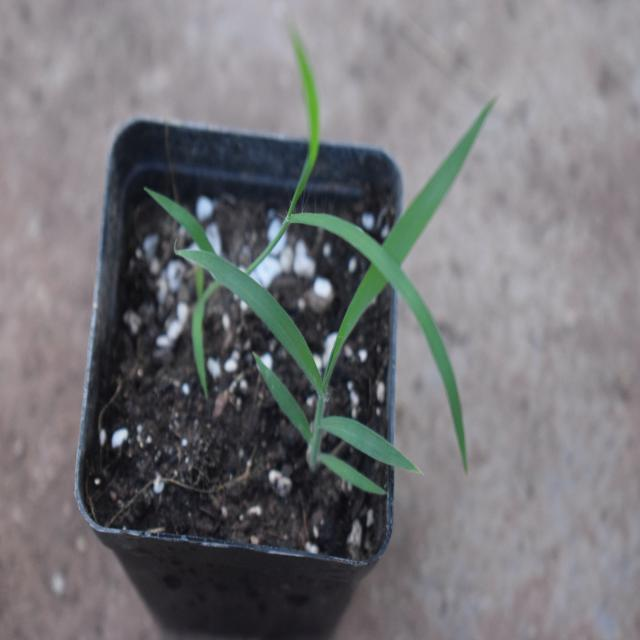crabgrass: (185, 93, 467, 489)
